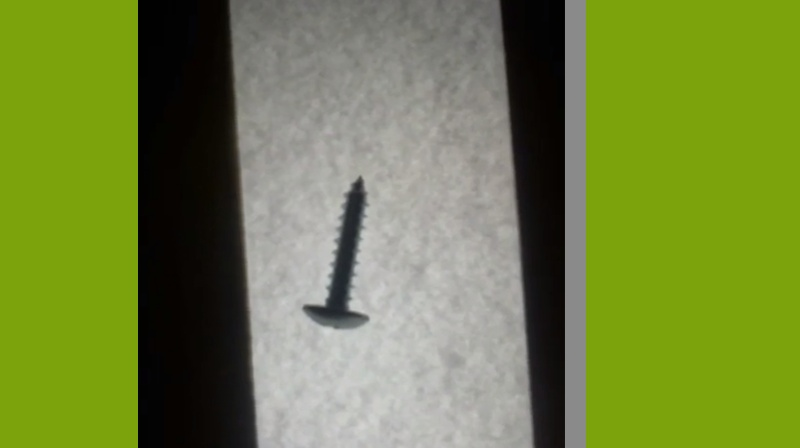S003: (298, 174, 372, 333)
